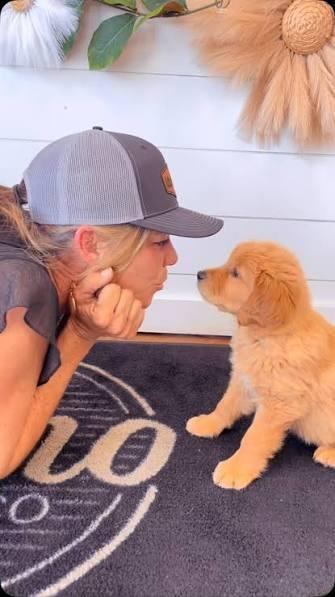non-dog: (0, 126, 226, 482)
puppy-dog: (188, 237, 335, 490)
